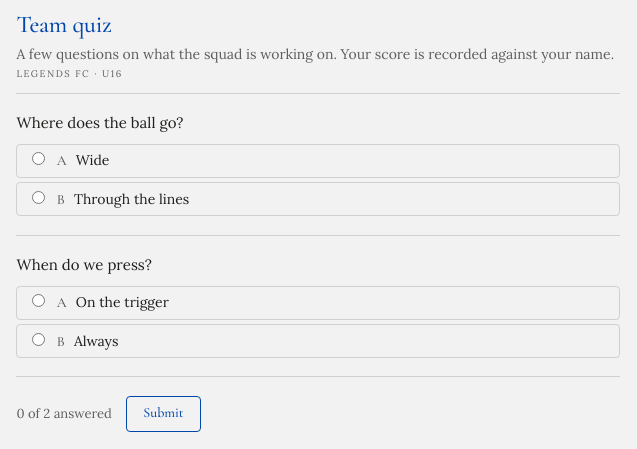
Test: the questions › counts what has been answered
Expected: the text "0 of 2 answered" is shown, [16, 404, 112, 424]
Click the radio button labelled "B Through the lines".
click(38, 197)  # box [32, 191, 45, 204]
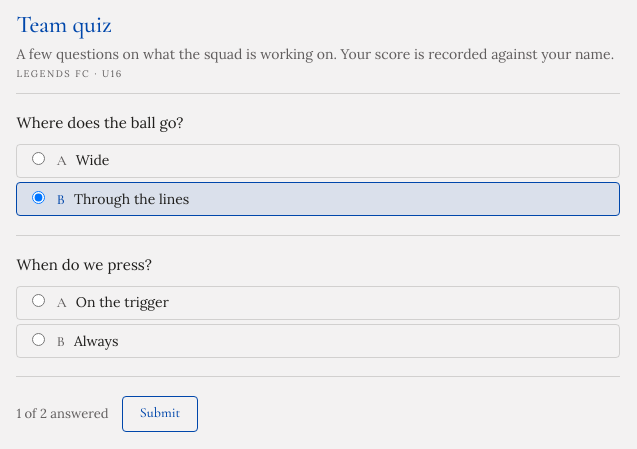
Expected: the text "1 of 2 answered" is shown, [16, 404, 108, 424]
